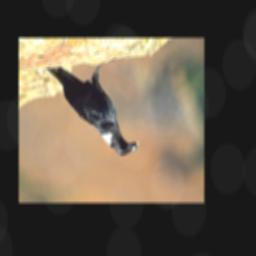Crow: (45, 58, 139, 157)
